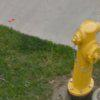Hydrant: (56, 18, 100, 99)
